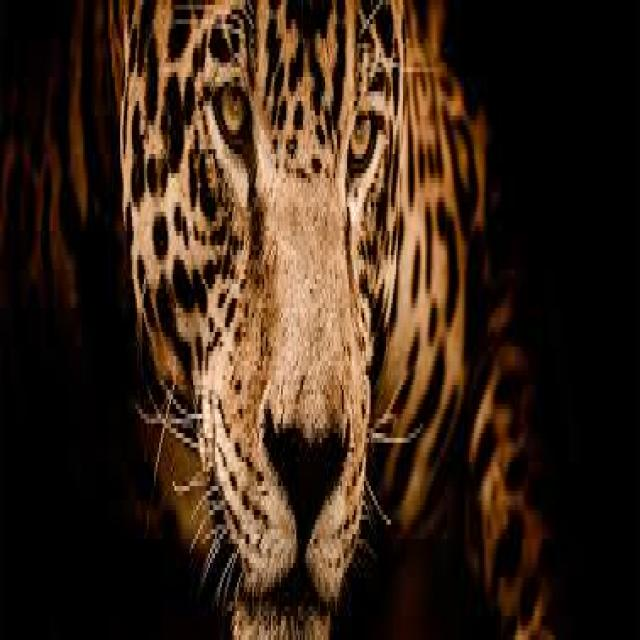Jaguar: (108, 0, 554, 640)
